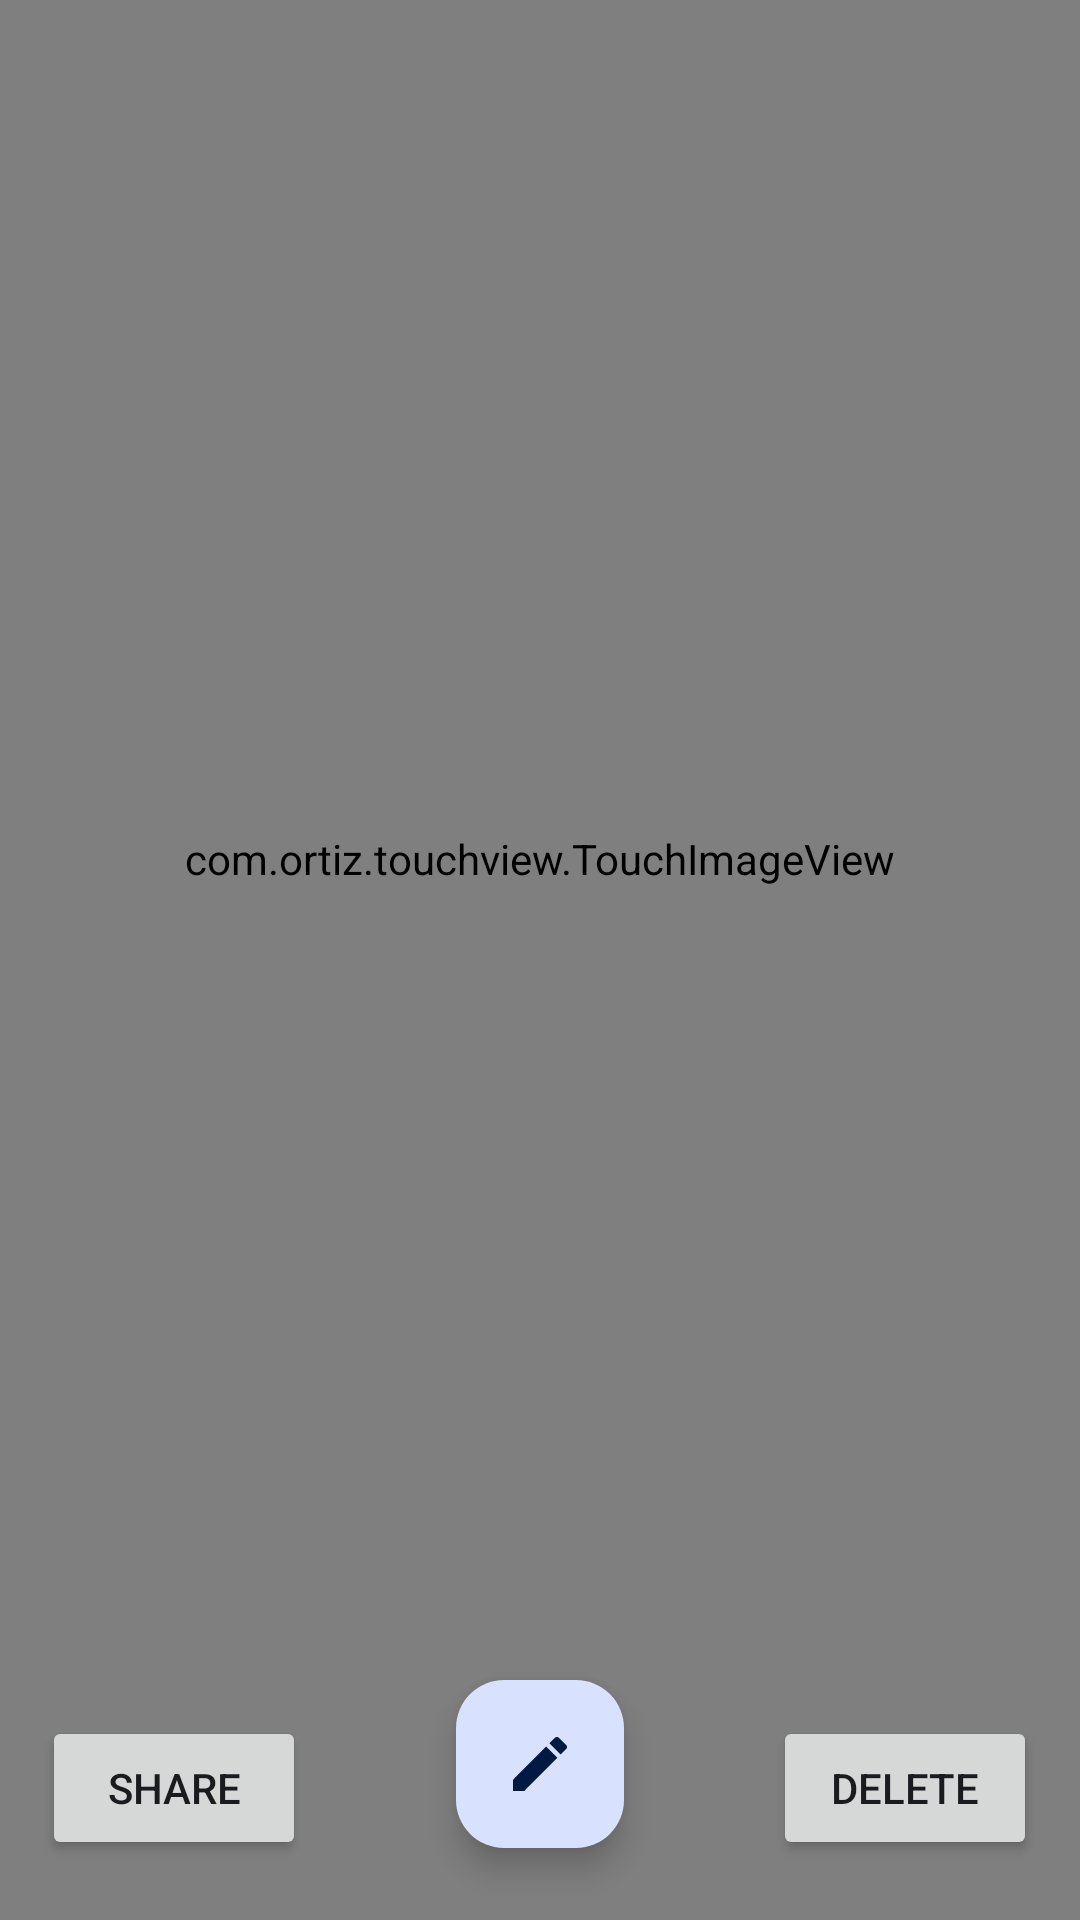

Locate icon controls on the screen. Image size 1080 x 1920, boxes as rect(x1, y1, x2, y2).
edit: rect(456, 1680, 624, 1848)
